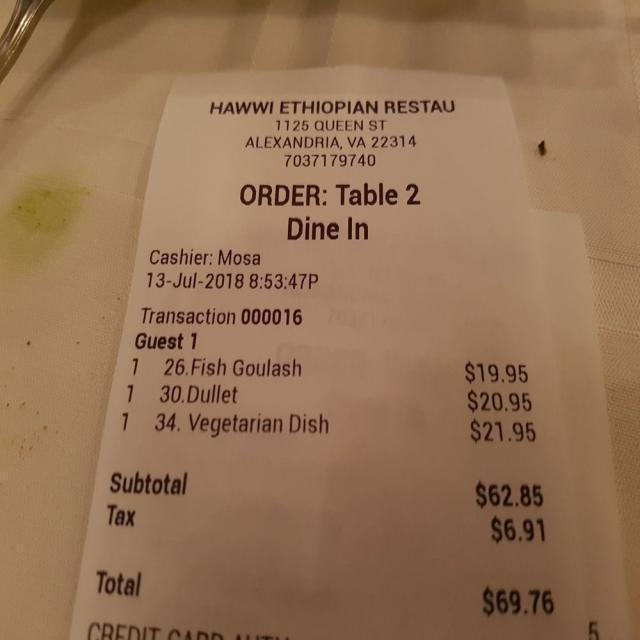Paper: (68, 62, 590, 640)
